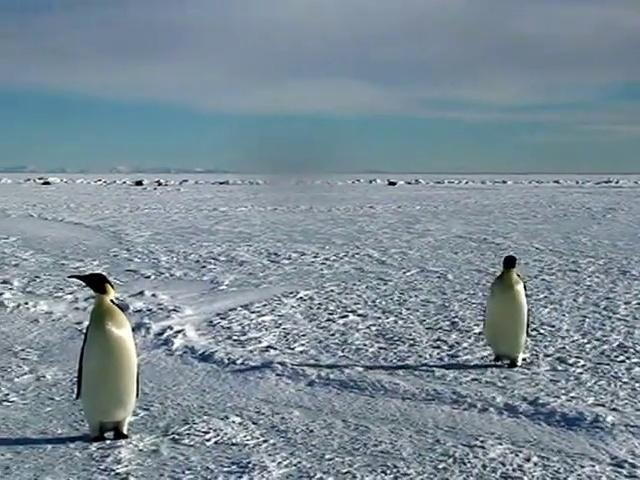animal: (68, 273, 138, 440)
